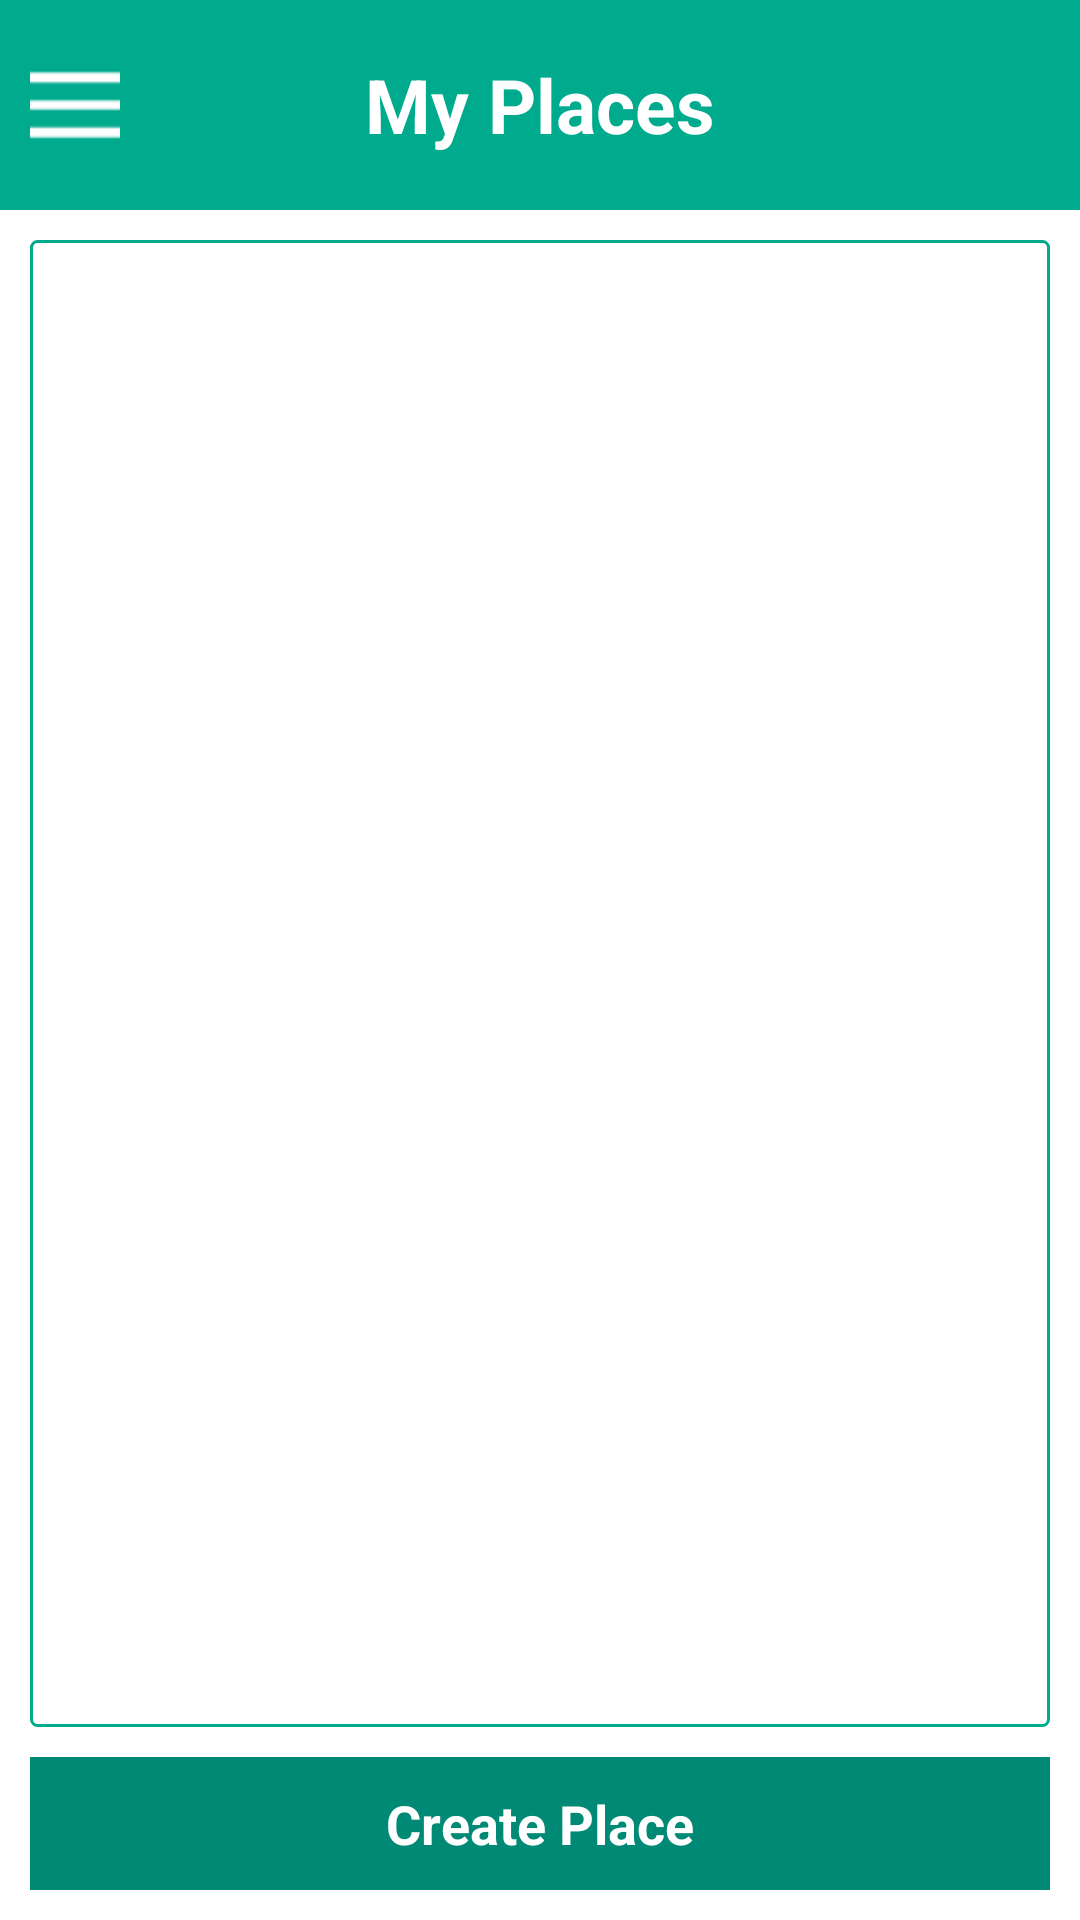

Screen size 1080w x 1920h. Icon name, then its center in pixels as (x=x, y=y):
menu: (x=75, y=105)
